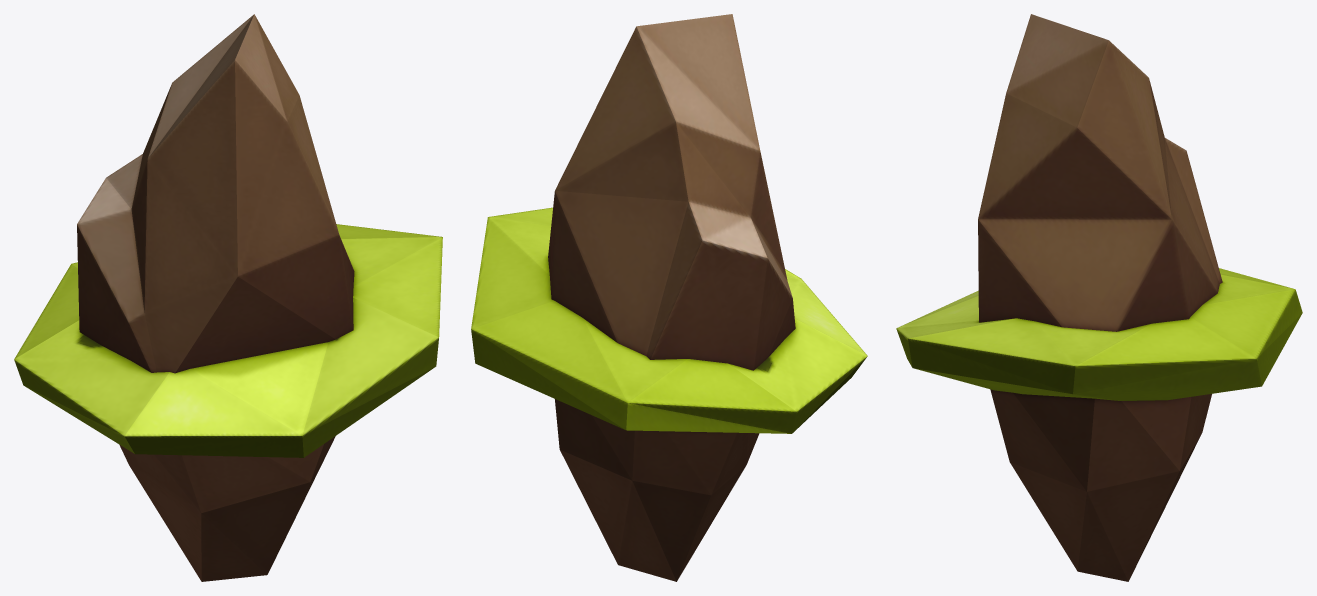
File: LiaoWangTa_1.FBX
The picture shows the model from 3 angles, left to right: view 1: azimuth 30°, elevation 25°; view 2: azimuth 150°, elevation 25°; view 3: azimuth 270°, elevation 25°; orthographic projection. The views are drawn at different scales.
Visible parts, largest first — view 1: LiaoWangTa_1; view 2: LiaoWangTa_1; view 3: LiaoWangTa_1.
Boxes of the visible parts, left/top/right/bottom form: LiaoWangTa_1: left=14, top=14, right=442, bottom=581; LiaoWangTa_1: left=471, top=14, right=867, bottom=581; LiaoWangTa_1: left=896, top=14, right=1302, bottom=581.
Bounding box in the file's own units: 180 × 257 × 174.
